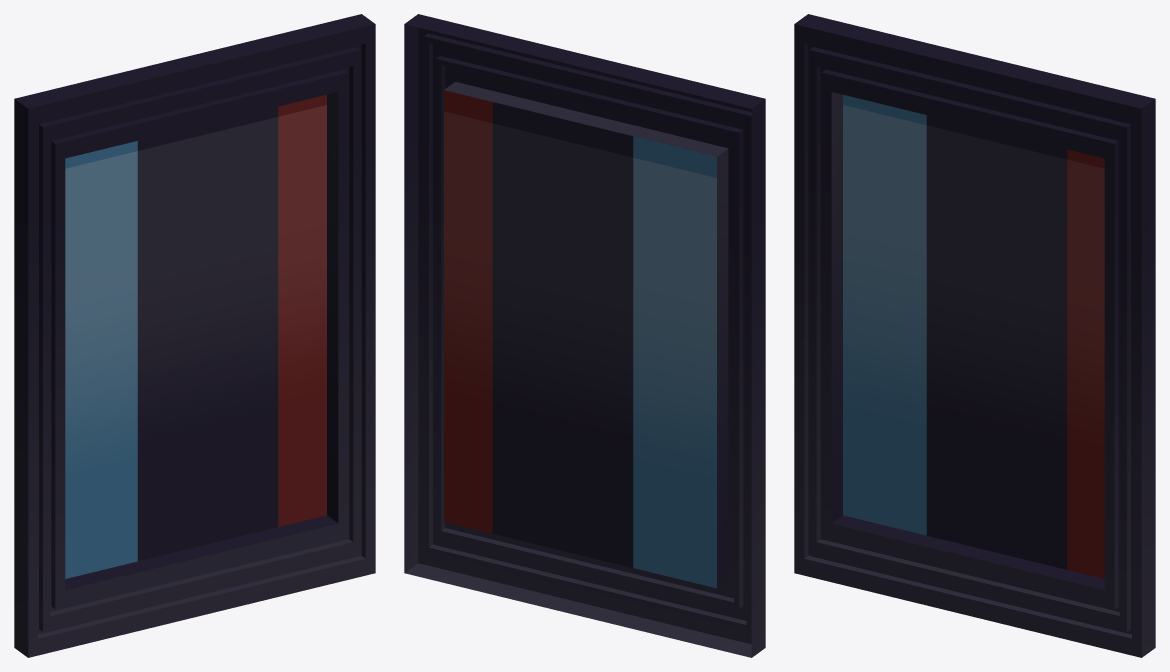
The model's file is SM_Cadre_photo_01.fbx.
The picture shows the model from 3 angles, left to right: view 1: azimuth 30°, elevation 25°; view 2: azimuth 150°, elevation 25°; view 3: azimuth 330°, elevation 25°; orthographic projection.
Parts seen in each view (by area): view 1: SM_Cadre_photo_01; view 2: SM_Cadre_photo_01; view 3: SM_Cadre_photo_01.
Part boxes in pixels (x1,y1,x2,y2): SM_Cadre_photo_01: [14, 14, 375, 657]; SM_Cadre_photo_01: [404, 14, 765, 657]; SM_Cadre_photo_01: [794, 14, 1155, 657].
Bounding box in the file's own units: 45.63 × 68.93 × 3.14.
